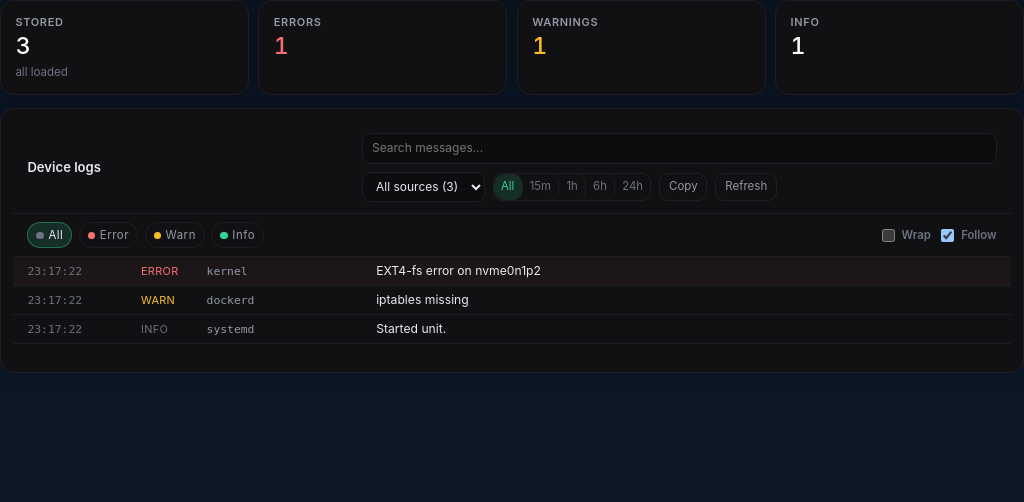
Test: DeviceLogs › offers to clear filters when a filter excludes everything
Expected: the text "EXT4-fs error on nvme0n1p2" is shown, [376, 263, 541, 278]
Click the button "error" at (108, 235), box [79, 222, 138, 248]
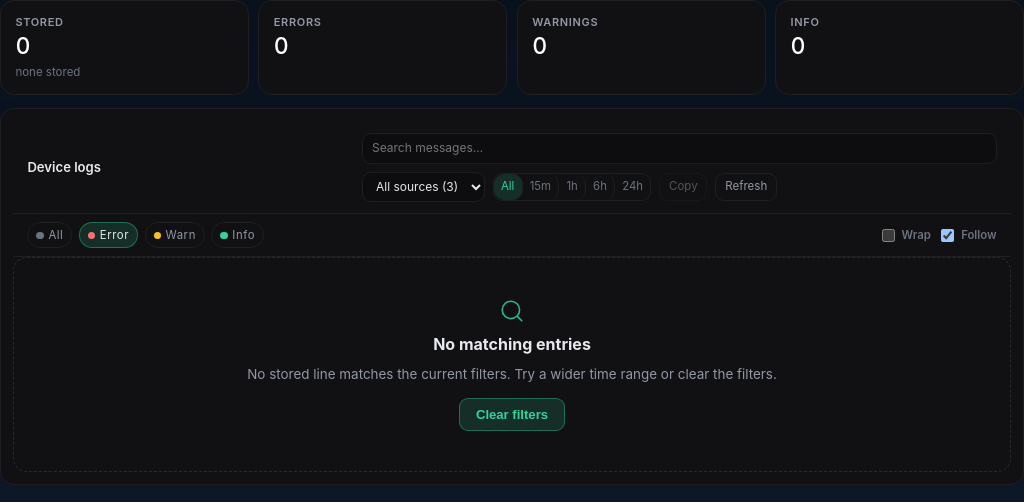
Expected: the text "No matching entries" is shown, [433, 332, 591, 356]
